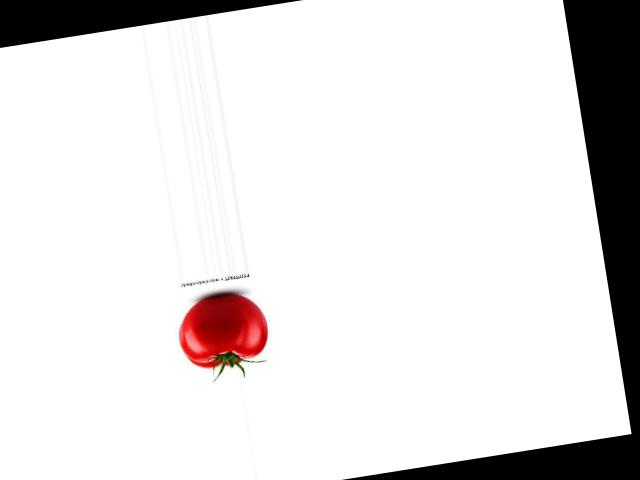tomato: (173, 289, 272, 371)
